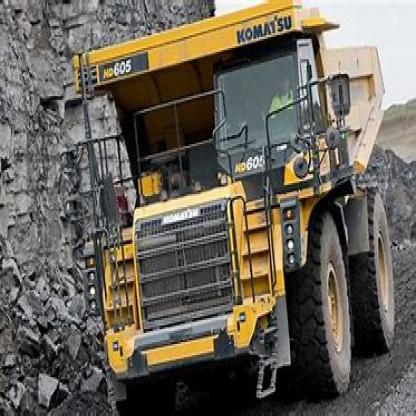dump_truck: (69, 0, 401, 410)
